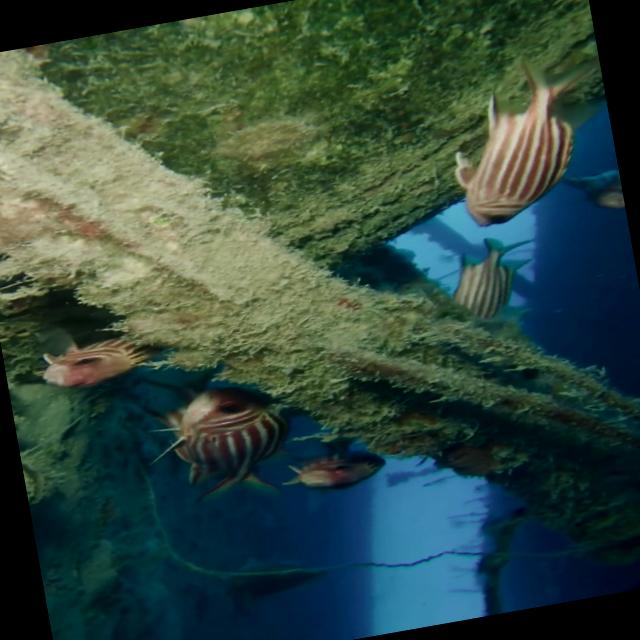Asker Baligi: (433, 46, 616, 232), (134, 374, 302, 512)
